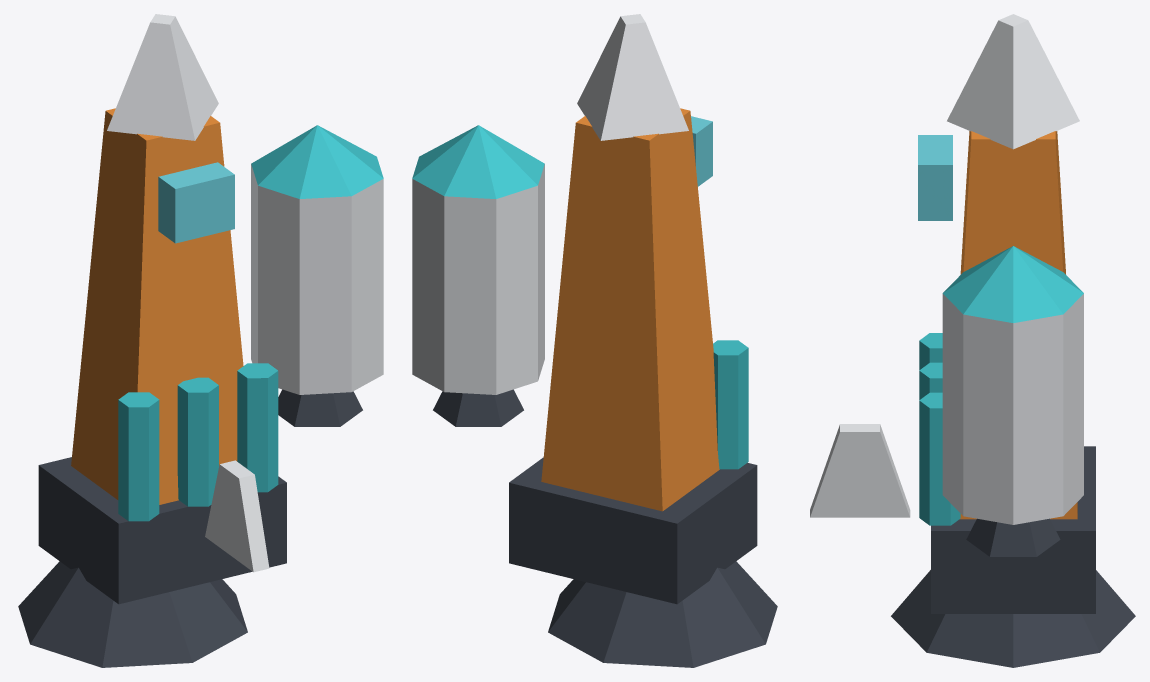
File: ShipHotrod.fbx
3 renders of one model, left to right at view 1: azimuth 30°, elevation 25°; view 2: azimuth 150°, elevation 25°; view 3: azimuth 270°, elevation 25°, orthographic. The views are drawn at different scales.
Parts seen in each view (by area): view 1: ShipHotrod; view 2: ShipHotrod; view 3: ShipHotrod.
Boxes of the visible parts, x1=… form: ShipHotrod: x1=18, y1=14, x2=383, y2=667; ShipHotrod: x1=412, y1=14, x2=777, y2=667; ShipHotrod: x1=810, y1=14, x2=1135, y2=667.
Size of the model in its own units: 2.47 by 3.86 by 1.87.
